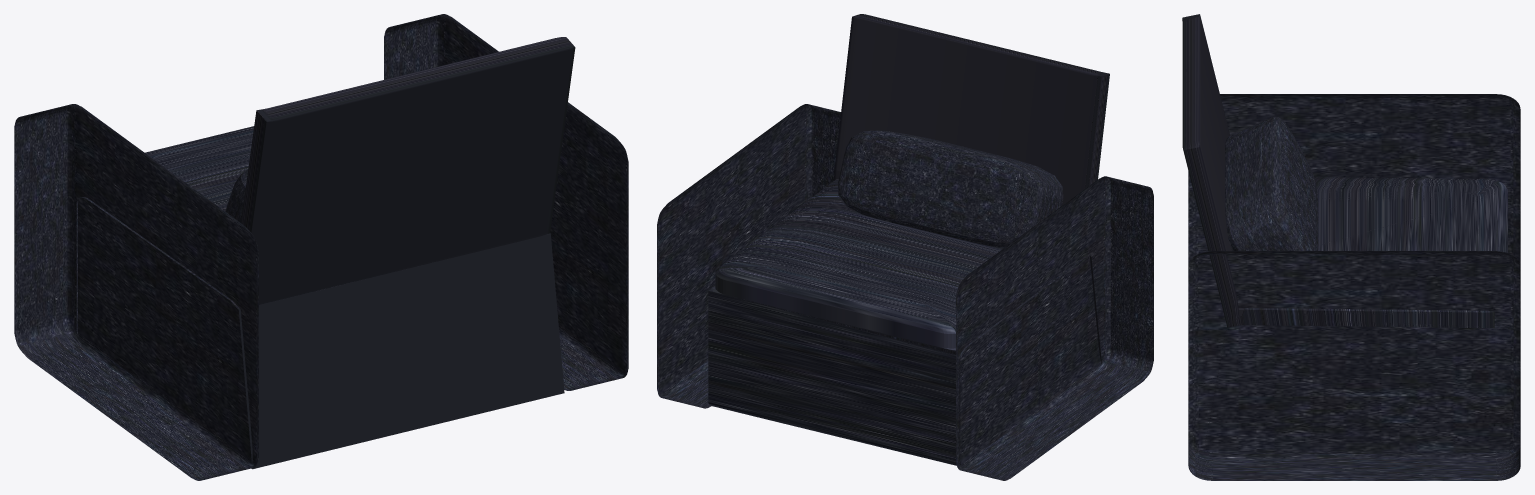
File: sofa_chico.fbx
3 renders of one model, left to right at view 1: azimuth 30°, elevation 25°; view 2: azimuth 150°, elevation 25°; view 3: azimuth 270°, elevation 25°, orthographic. The views are drawn at different scales.
Parts seen in each view (by area): view 1: Cube; view 2: Cube; view 3: Cube.
Part boxes in pixels (<box>): Cube: <box>14,14,628,480</box>; Cube: <box>657,14,1153,480</box>; Cube: <box>1182,14,1520,480</box>.
Bounding box in the file's own units: 176 × 141 × 138.
1 material, 1 textured.
